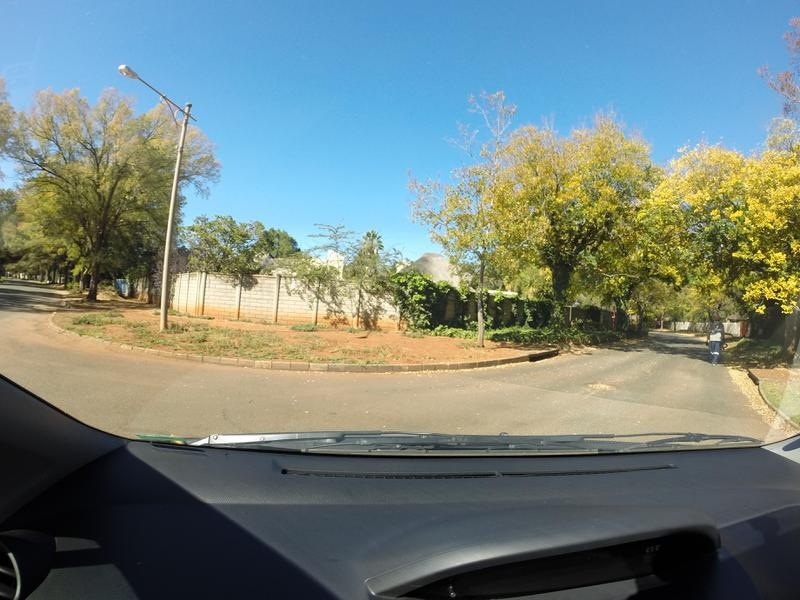pothole: (577, 370, 620, 399)
